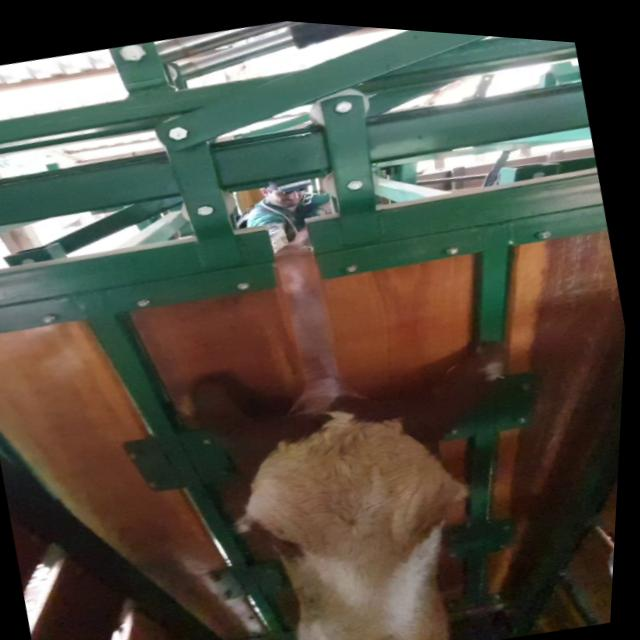cowFace: (236, 380, 504, 640)
